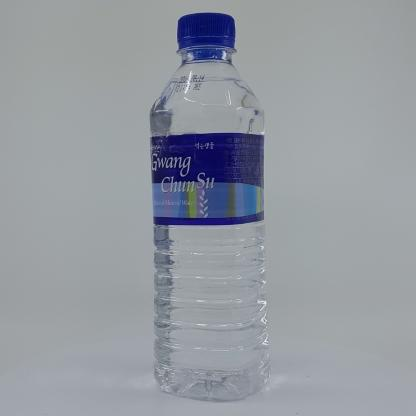----------500ML: (149, 13, 271, 402)
